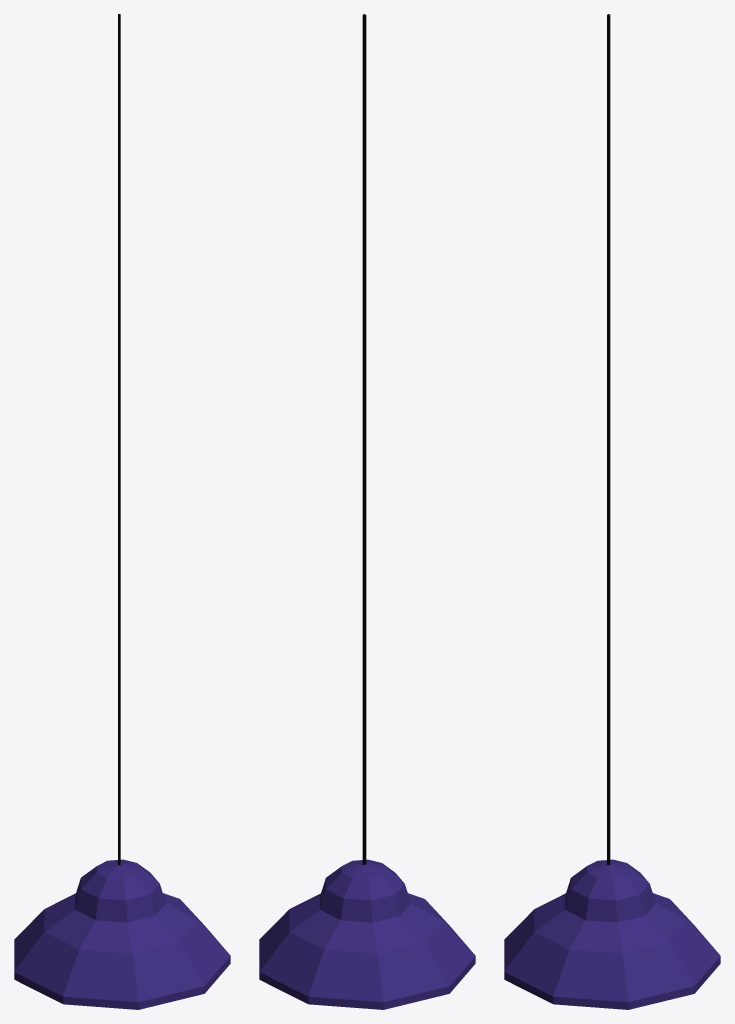
File: ceiling lamp.glb
The picture shows the model from 3 angles, left to right: view 1: azimuth 30°, elevation 25°; view 2: azimuth 150°, elevation 25°; view 3: azimuth 270°, elevation 25°; orthographic projection.
Parts seen in each view (by area): view 1: Ceiling Lamp; view 2: Ceiling Lamp; view 3: Ceiling Lamp.
Boxes of the visible parts, x1,y1,x2,y2 form: Ceiling Lamp: (14,14,230,1009); Ceiling Lamp: (259,14,475,1009); Ceiling Lamp: (504,14,720,1009).
Size of the model in its own units: 4.68 by 22.3 by 4.61.
